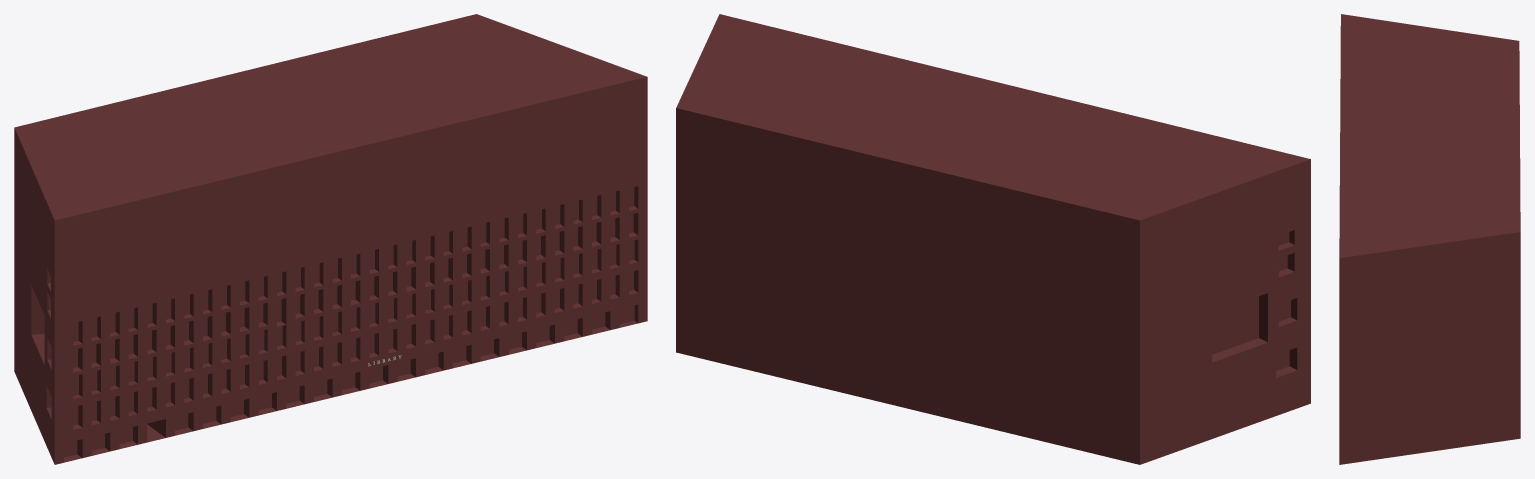
Rendered from librarybuilding.glb.
3 views of the same model, side by side, from view 1: azimuth 30°, elevation 25°; view 2: azimuth 150°, elevation 25°; view 3: azimuth 270°, elevation 25° (orthographic). The views are drawn at different scales.
Visible parts, largest first — view 1: Plane; view 2: Plane; view 3: Plane.
Boxes of the visible parts, x1,y1,x2,y2 form: Plane: (14, 14, 647, 464); Plane: (676, 14, 1310, 464); Plane: (1339, 14, 1520, 464).
Size of the model in its own units: 2.65 by 1.05 by 0.8317.
